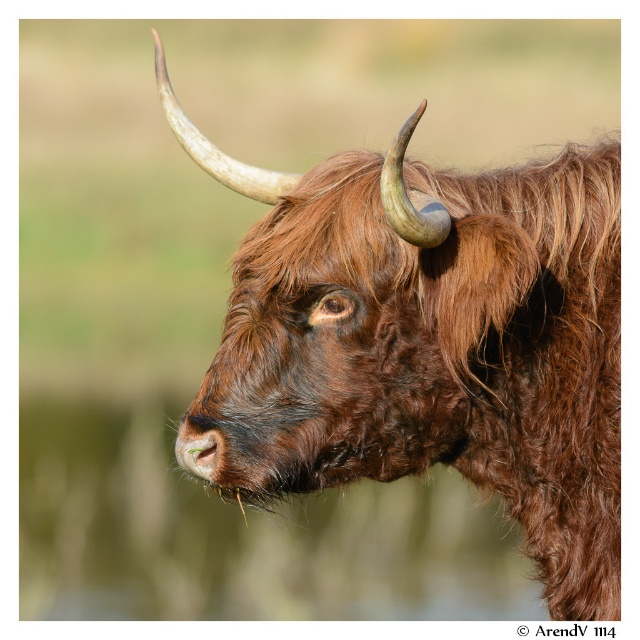Cattle: (150, 27, 621, 621)
